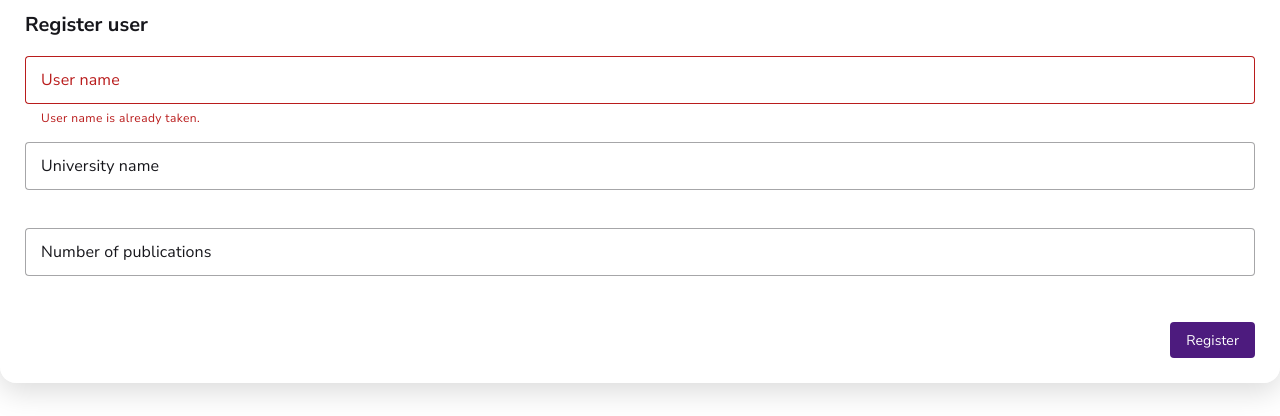
Test: Given RegisterUserForm › When a field with a server error is edited by the user › Then the server error is replaced by local validation
In the field labelled "User name": (640, 80) [25, 56, 1255, 104], type "Ada Lovelace"
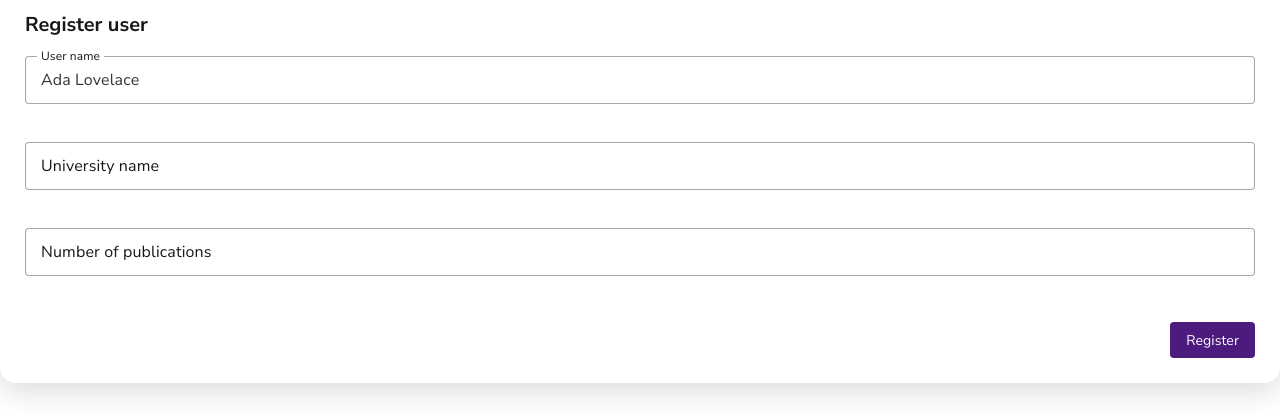
Result: the text "User name is already taken." is gone
